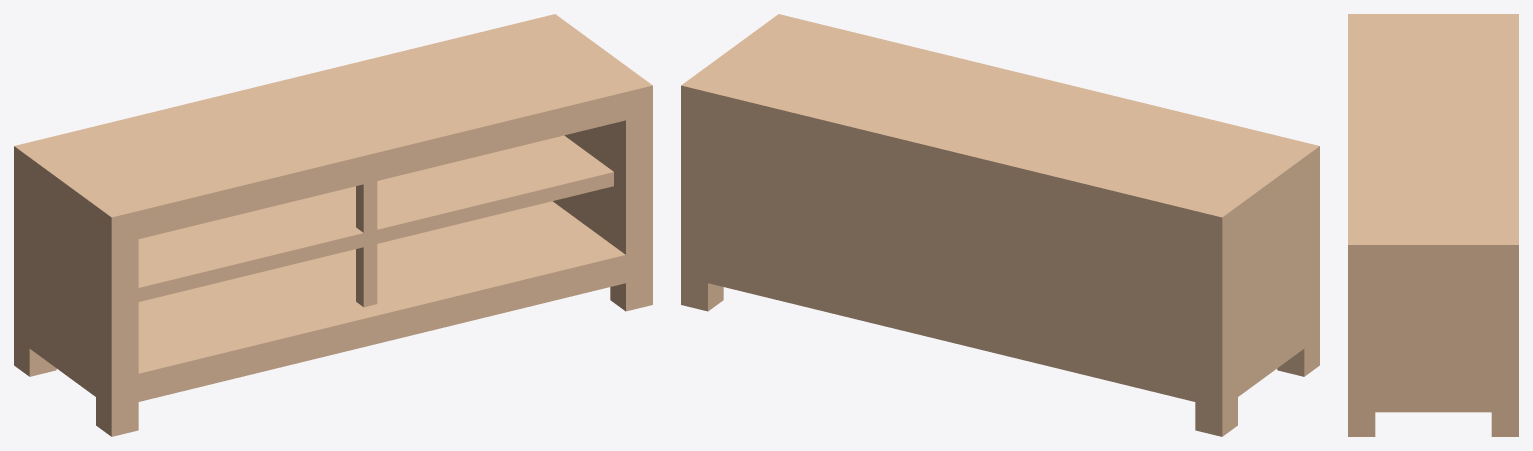
File: cabinetTelevision.optimized.glb
The picture shows the model from 3 angles, left to right: view 1: azimuth 30°, elevation 25°; view 2: azimuth 150°, elevation 25°; view 3: azimuth 270°, elevation 25°; orthographic projection. The views are drawn at different scales.
Parts seen in each view (by area): view 1: cabinetTelevision(Clone); view 2: cabinetTelevision(Clone); view 3: cabinetTelevision(Clone).
Boxes of the visible parts, box(x1,y1,x2,y2) form: cabinetTelevision(Clone): box(14, 14, 652, 436); cabinetTelevision(Clone): box(681, 14, 1319, 436); cabinetTelevision(Clone): box(1348, 14, 1518, 436).
Bounding box in the file's own units: 0.8 × 0.31 × 0.25.
